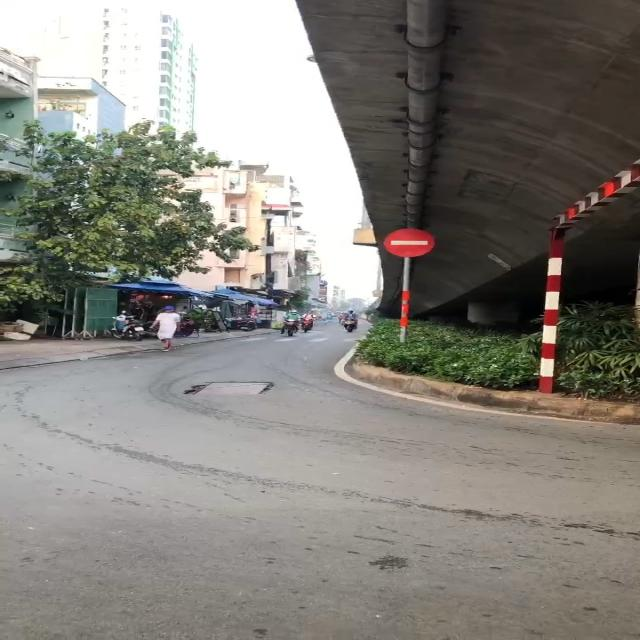Bien bao cam di nguoc chieu: (380, 222, 440, 262)
